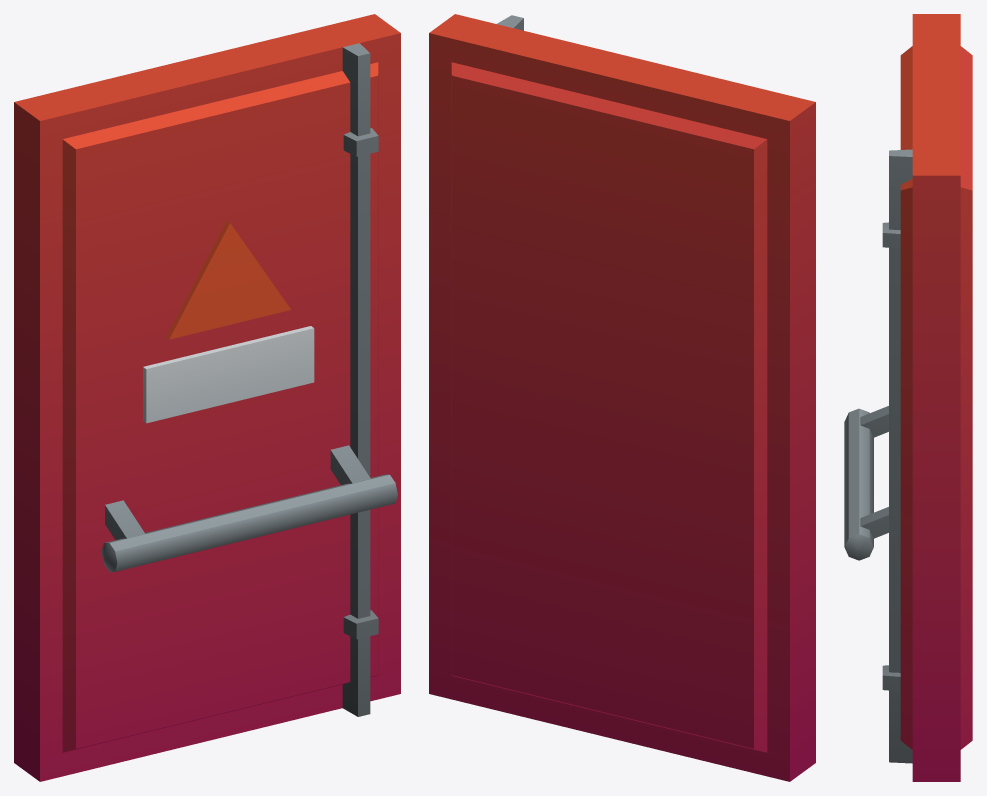
Rendered from Door_B.glb.
3 views of the same model, side by side, from view 1: azimuth 30°, elevation 25°; view 2: azimuth 150°, elevation 25°; view 3: azimuth 270°, elevation 25° (orthographic). The views are drawn at different scales.
Parts seen in each view (by area): view 1: Door_B; view 2: Door_B; view 3: Door_B.
Boxes of the visible parts, x1,y1,x2,y2 form: Door_B: (14, 14, 400, 781); Door_B: (429, 14, 815, 781); Door_B: (844, 14, 972, 781).
Bounding box in the file's own units: 1.6 × 2.8 × 0.5357.
1 material, 1 textured.
